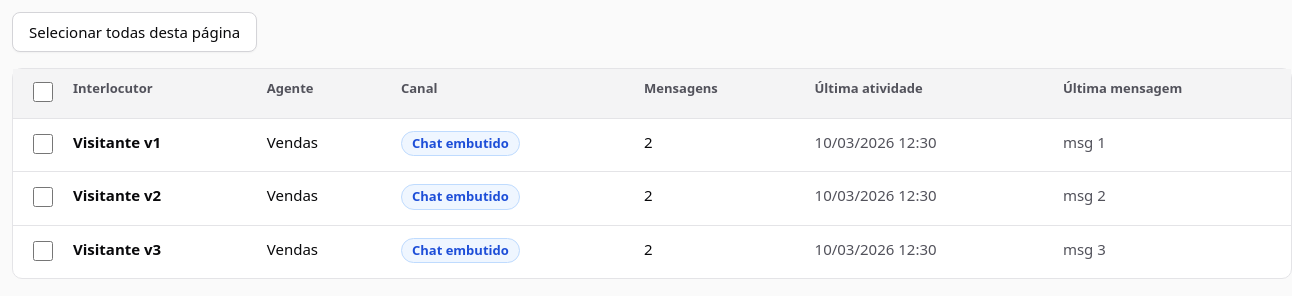
it: lote (funcional) › o botão Selecionar todas serve de caminho para o celular, onde o cabeçalho da tabela some
Click the button "Selecionar todas desta página": (135, 32) [12,12,257,52]
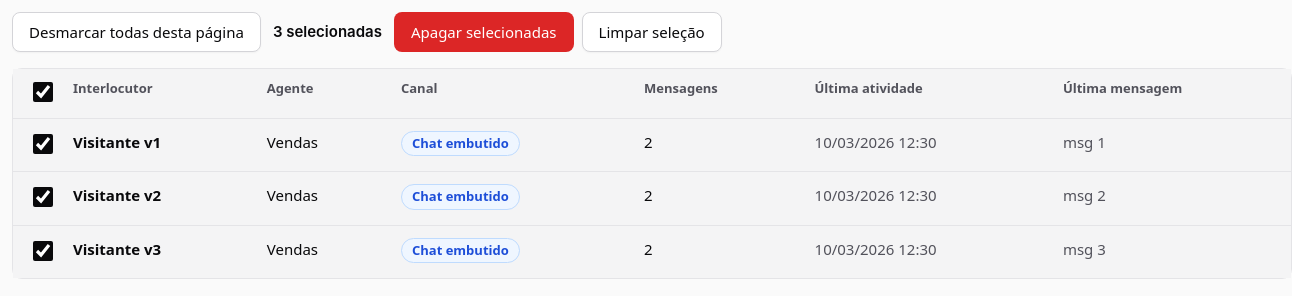
expect the text "3 selecionadas" is shown: met, box [273,21,382,43]
